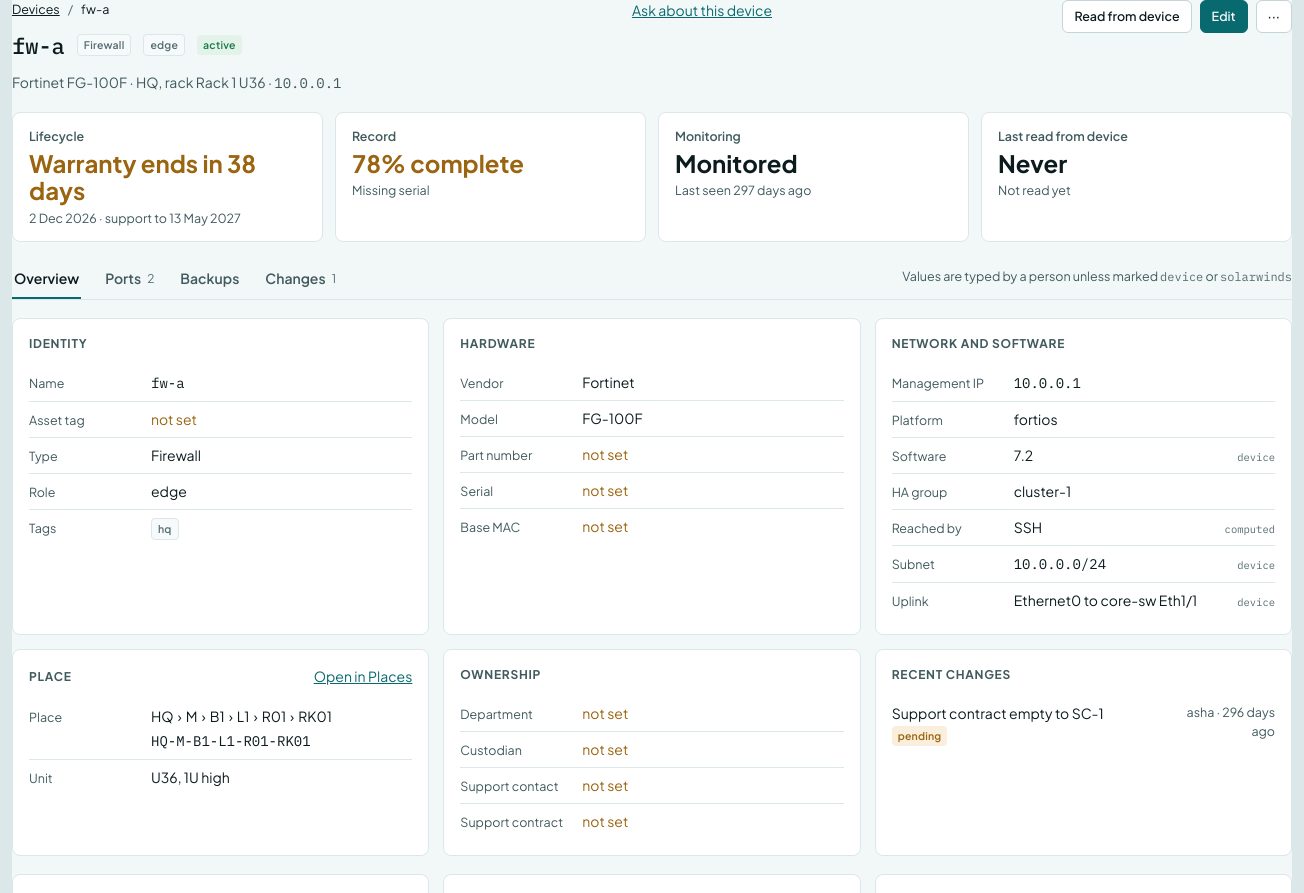
Test: DeviceRecord › reads from the device and shows the per-device summary
What coordinates should you click on to do the following:
click the button "Read from device"
I would click on:
 (1127, 16)
Its box is [1062,0,1192,33].
(page scrolled)
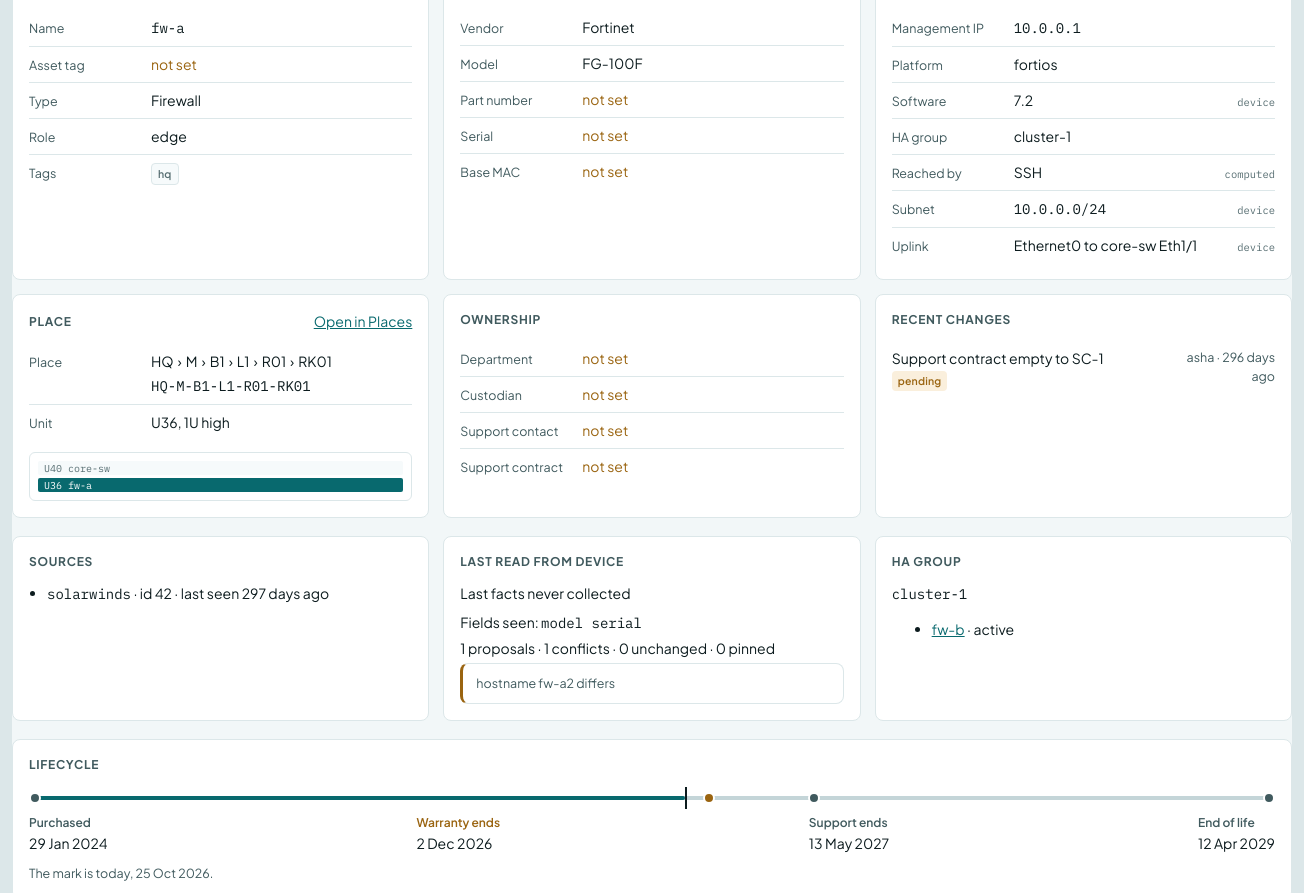
Now the element with test id "facts-result" shows "1 proposals · 1 conflicts", box [460,612,844,704]
Now the text with test id "facts-warnings" reads "hostname fw-a2 differs", box [476,675,615,691]
